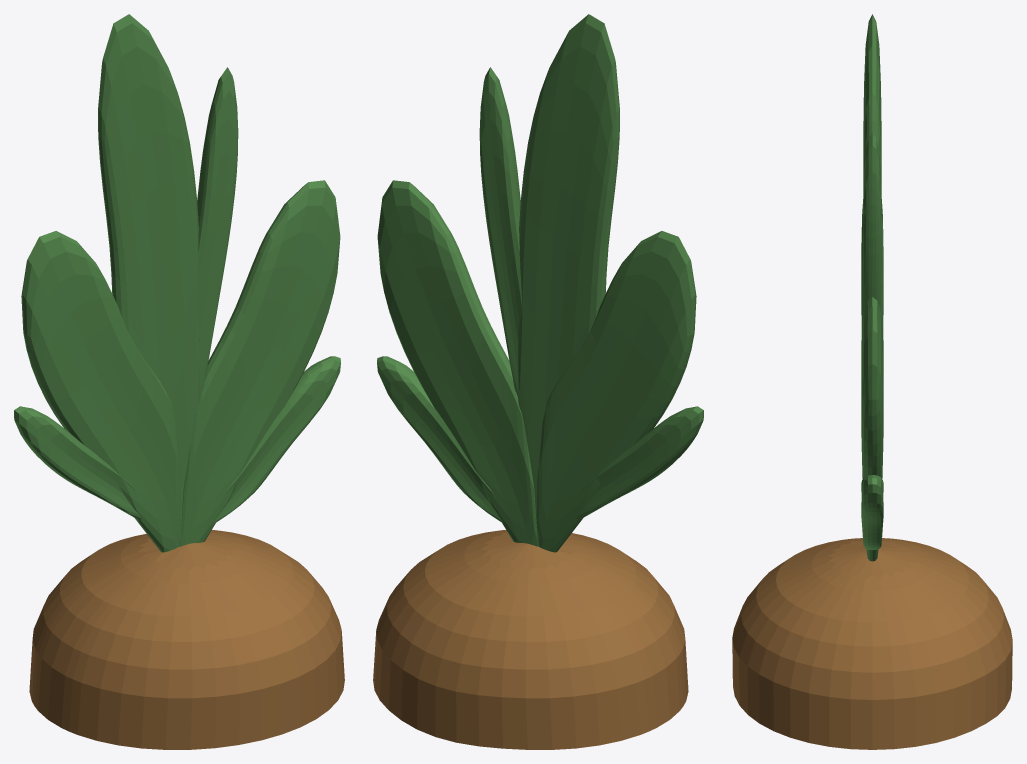
Rendered from Carrot_Big.fbx.
3 renders of one model, left to right at view 1: azimuth 30°, elevation 25°; view 2: azimuth 150°, elevation 25°; view 3: azimuth 270°, elevation 25°, orthographic. The views are drawn at different scales.
Visible parts, largest first — view 1: Carrot_Big; view 2: Carrot_Big; view 3: Carrot_Big.
Part boxes in pixels (left/top/right/bottom): Carrot_Big: left=14, top=14, right=344, bottom=749; Carrot_Big: left=373, top=14, right=703, bottom=749; Carrot_Big: left=732, top=14, right=1012, bottom=749.
Size of the model in its own units: 1.94 by 3.92 by 1.54.
